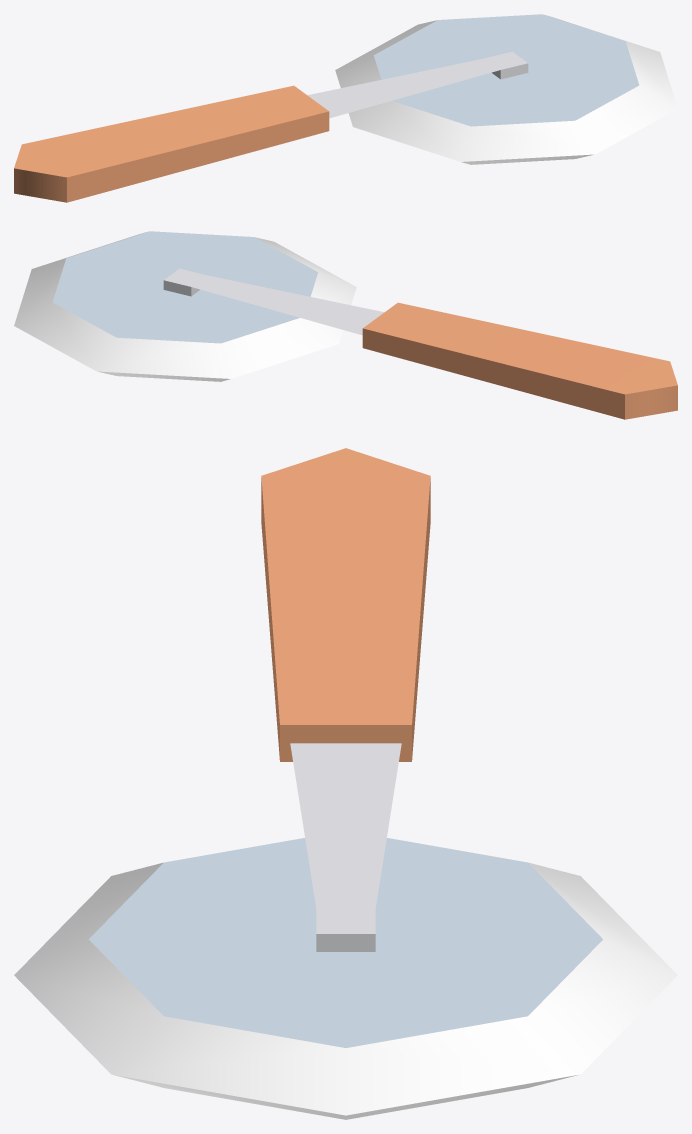
The model's file is pizzaCutter.GLB.
The picture shows the model from 3 angles, top to bottom: view 1: azimuth 30°, elevation 25°; view 2: azimuth 150°, elevation 25°; view 3: azimuth 270°, elevation 25°; orthographic projection. The views are drawn at different scales.
Parts seen in each view (by area): view 1: pizzaCutter; view 2: pizzaCutter; view 3: pizzaCutter.
Part boxes in pixels (x1,y1,x2,y2): pizzaCutter: [14, 14, 677, 202]; pizzaCutter: [14, 231, 677, 419]; pizzaCutter: [14, 448, 677, 1119].
Bounding box in the file's own units: 0.536 × 0.0556 × 0.2549.
